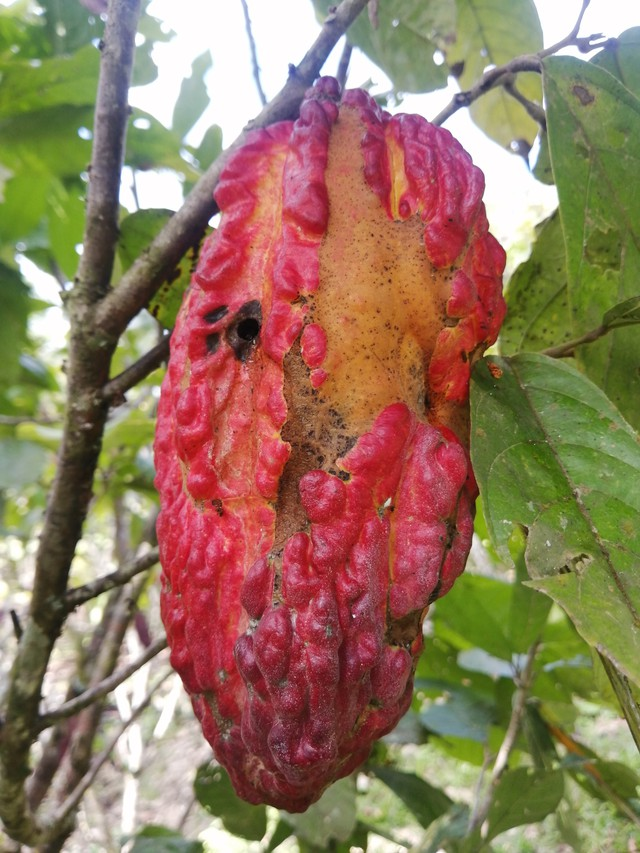carmenta foraseminis: (156, 73, 516, 815)
